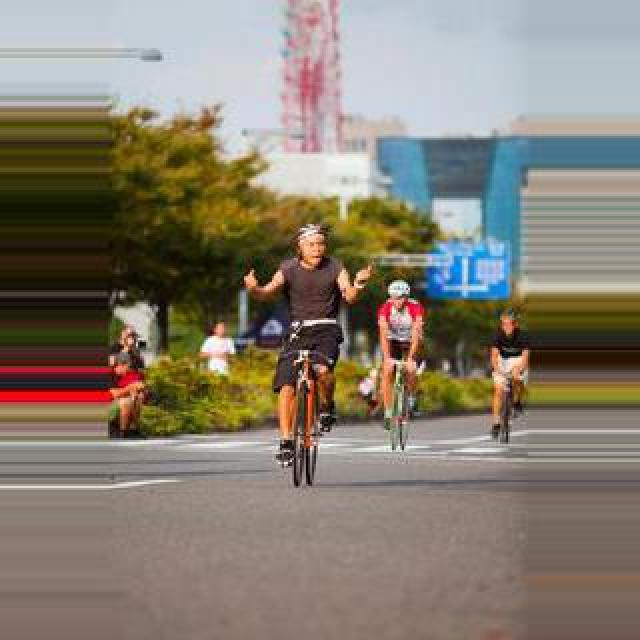MC-Bike: (240, 222, 366, 448), (376, 278, 426, 426), (488, 306, 532, 434), (106, 324, 148, 438), (198, 322, 234, 376)
Person: (276, 356, 336, 486), (380, 358, 420, 450)
